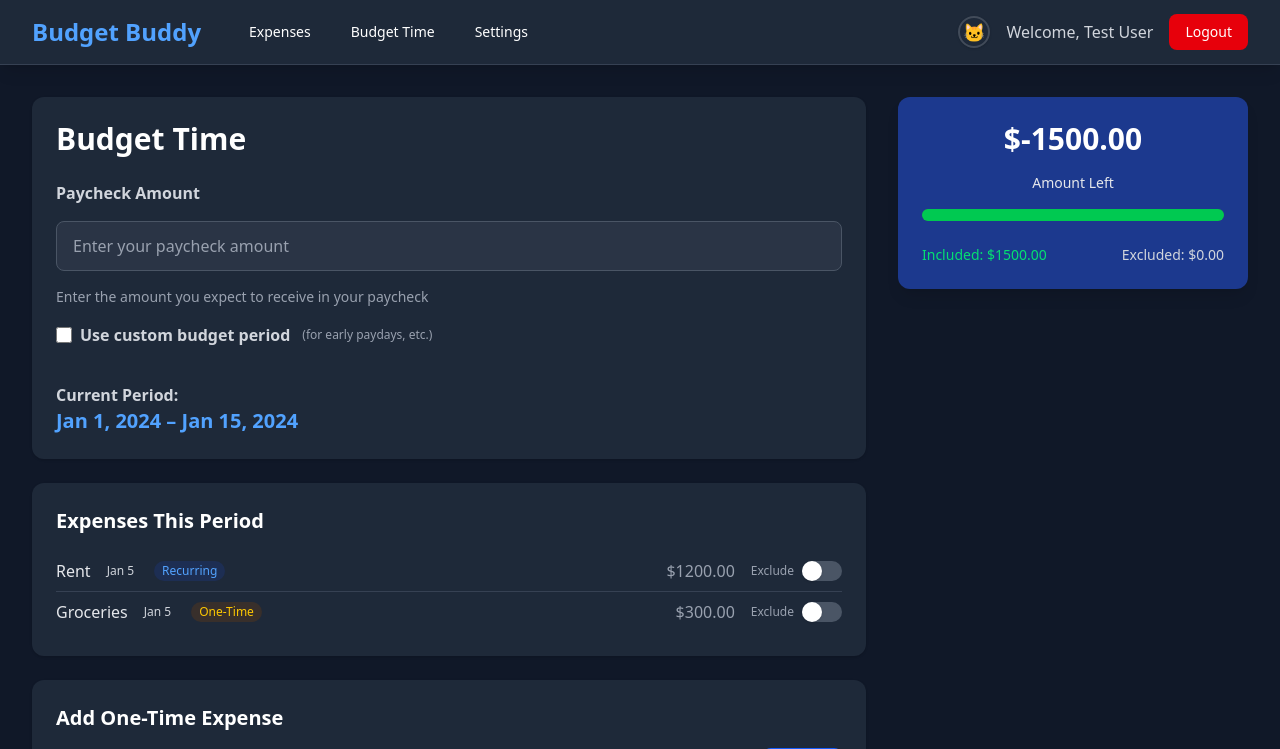
Test: BudgetTime Page › allows manual period override
Click the checkbox labelled "Use custom budget period": (64, 335) [56,327,72,343]
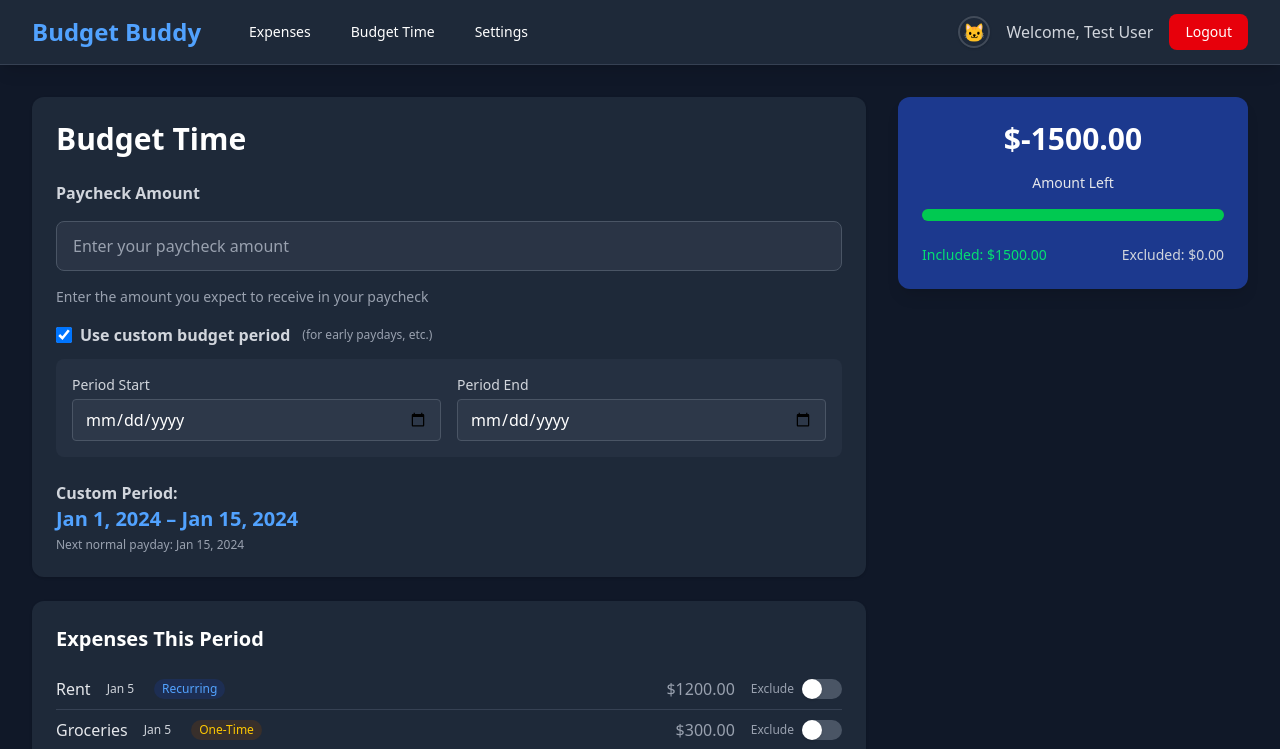
Check: the date field labelled "Period Start" is shown, box [72,399,441,441]
Check: the date field labelled "Period End" is shown, box [457,399,826,441]
Check: the text "Custom Period:" is shown, box [56,482,178,504]
